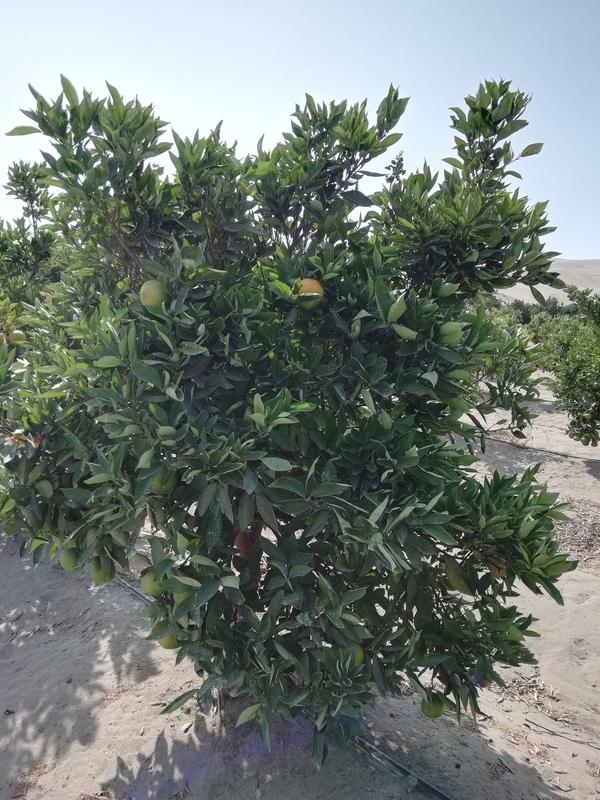mandarina verde: (90, 557, 116, 585), (139, 279, 165, 305), (421, 695, 445, 718), (60, 548, 80, 573), (142, 573, 162, 596)
